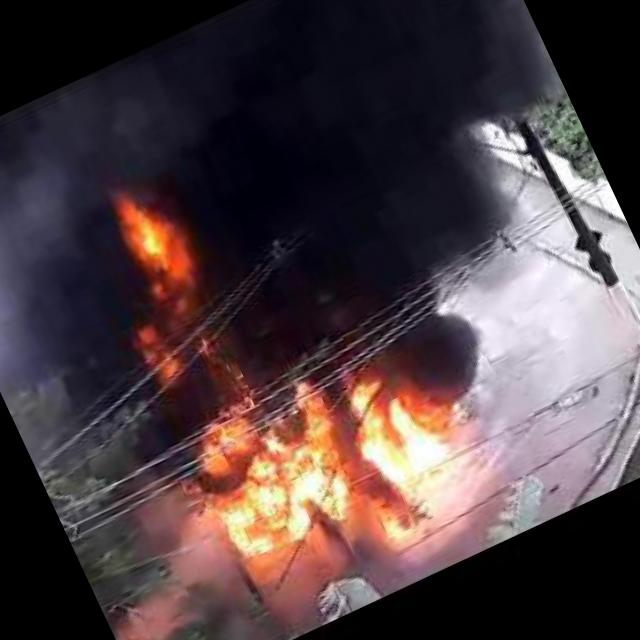fire: (155, 303, 509, 614), (62, 166, 253, 394)
smoke: (0, 0, 633, 505)
